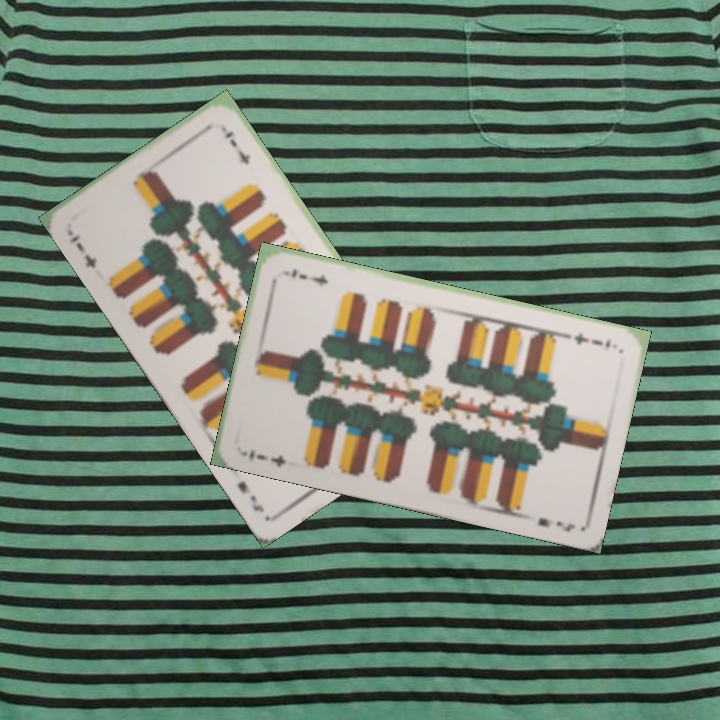E7: (64, 230, 100, 271), (562, 329, 613, 352), (245, 445, 289, 470)
